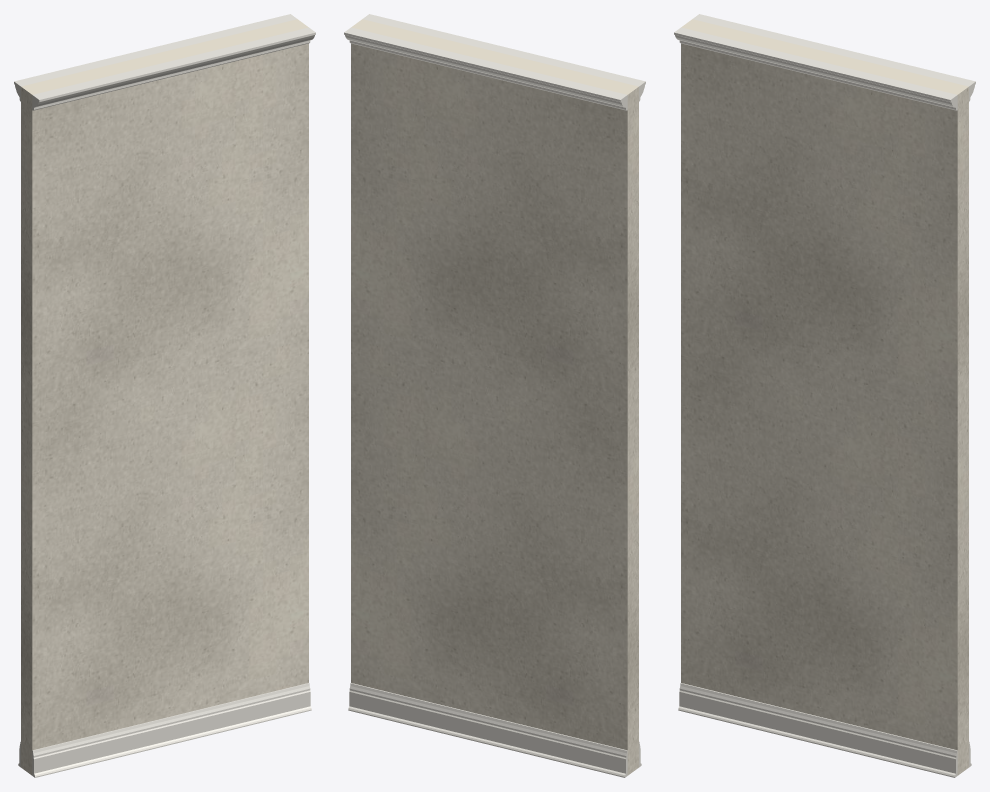
Rendered from interior_wall_end.glb.
The picture shows the model from 3 angles, left to right: view 1: azimuth 30°, elevation 25°; view 2: azimuth 150°, elevation 25°; view 3: azimuth 330°, elevation 25°; orthographic projection.
Visible parts, largest first — view 1: interior_wall_end_plaster, molduras; view 2: interior_wall_end_plaster, molduras; view 3: interior_wall_end_plaster, molduras.
Boxes of the visible parts, x1=… form: interior_wall_end_plaster: x1=21, y1=19, x2=308, y2=775; molduras: x1=14, y1=14, x2=315, y2=777; interior_wall_end_plaster: x1=351, y1=19, x2=638, y2=775; molduras: x1=344, y1=14, x2=645, y2=777; interior_wall_end_plaster: x1=681, y1=19, x2=968, y2=775; molduras: x1=674, y1=14, x2=975, y2=777.
Bounding box in the file's own units: 1.7 × 4 × 0.27.
Materials: 2 (1 with a texture image).
